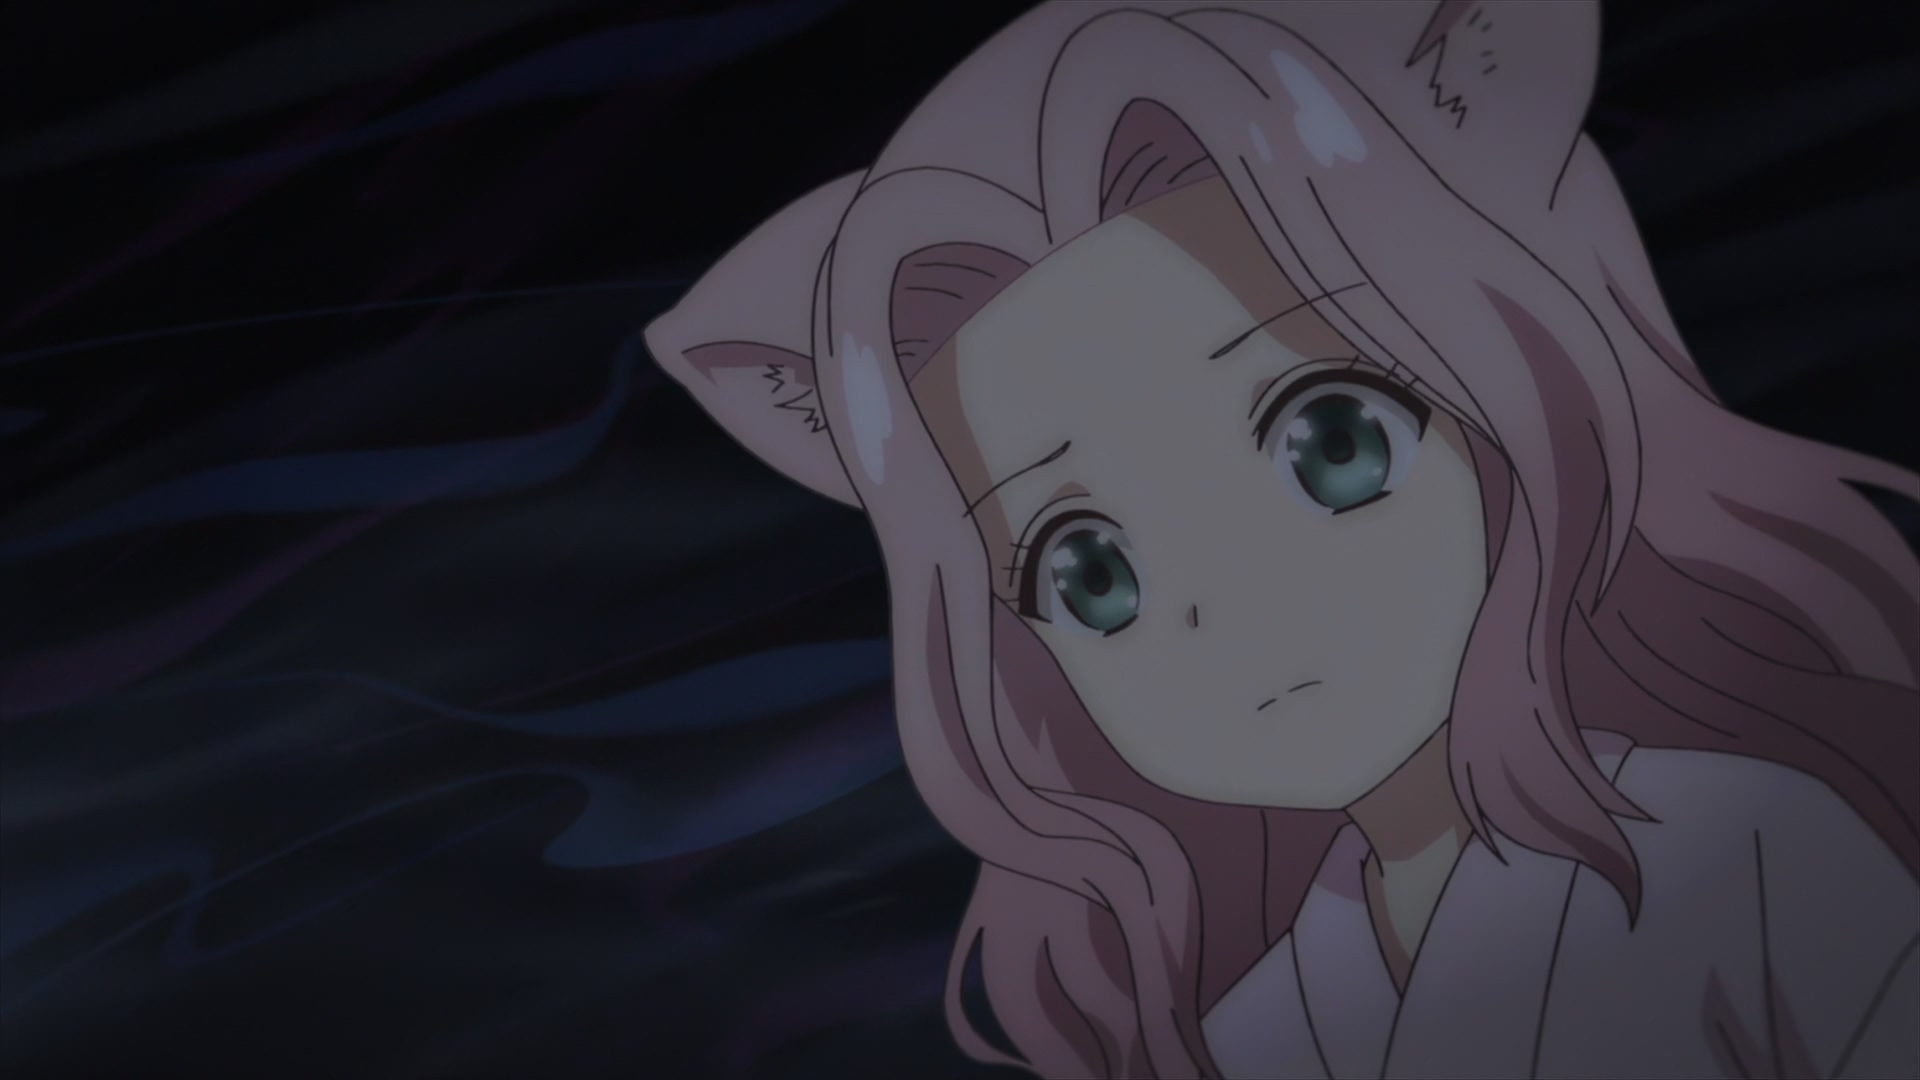莲: (645, 1, 1920, 1080)
